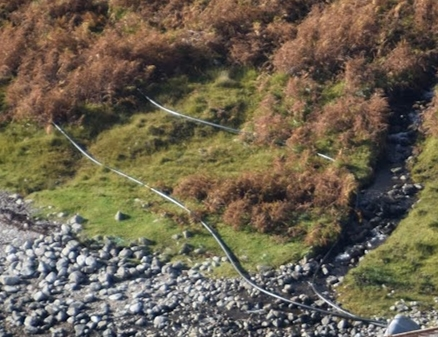tube: (136, 85, 340, 166), (219, 245, 299, 305), (309, 282, 388, 326), (101, 162, 172, 199), (311, 149, 363, 194), (172, 201, 225, 245), (324, 197, 361, 255), (309, 258, 345, 312), (133, 83, 188, 118), (52, 123, 99, 163), (188, 115, 253, 136)
